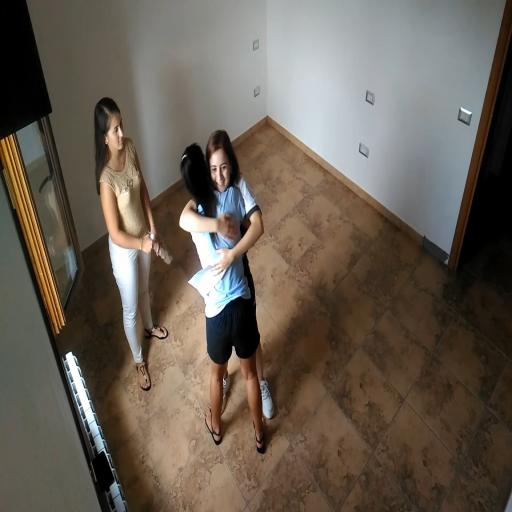nao-violencia: (160, 123, 284, 462)
